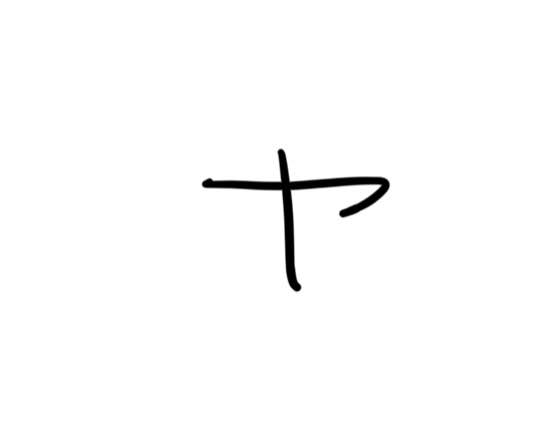ya: (195, 130, 396, 302)
